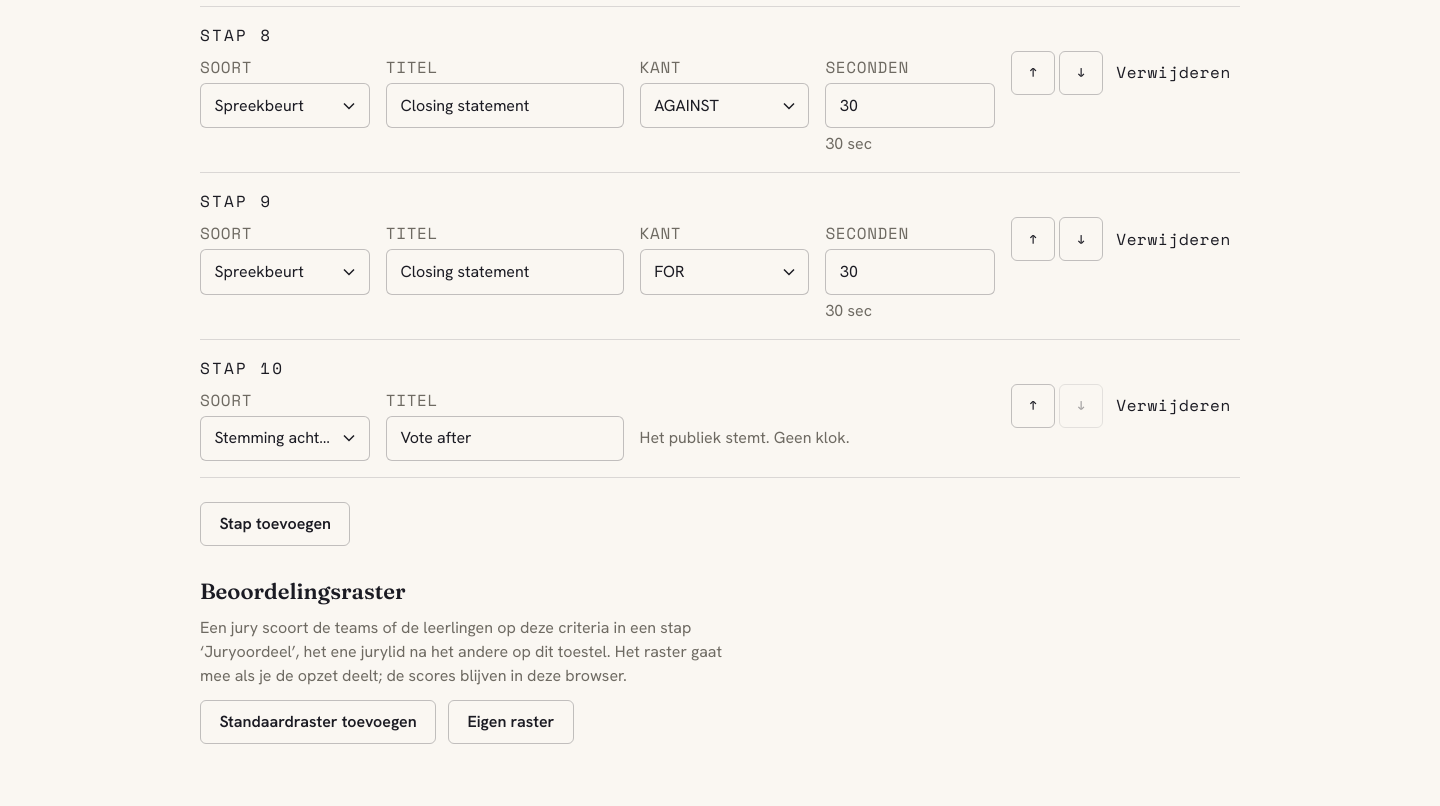
the format › starts over from a preset in the current language, after asking, and keeps the topics
(page scrolled)
Click the button with aria-label "Stap 10 verwijderen" at (1174, 406), box [1107,384,1240,428]
(page scrolled)
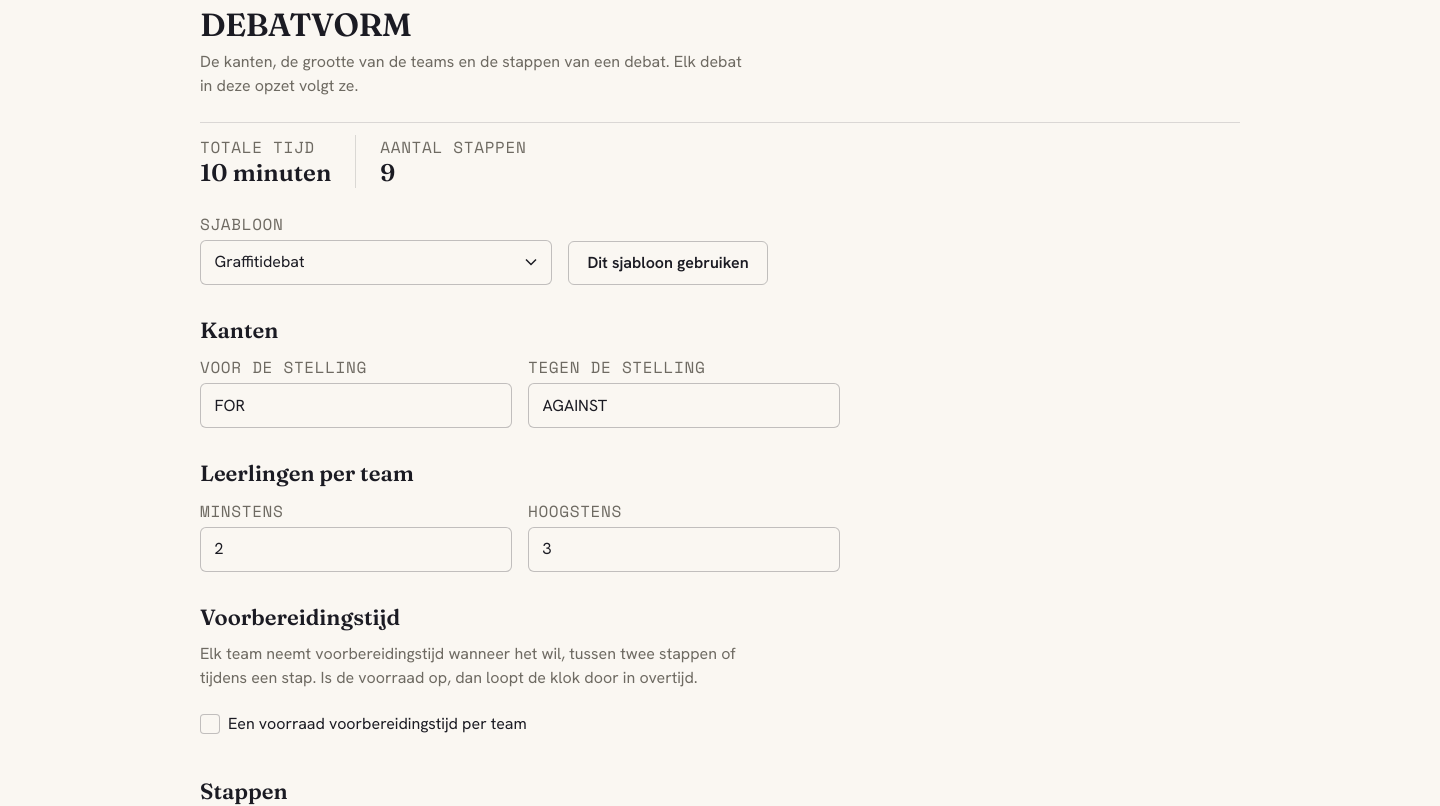
A half-typed side label gives way to the preset's.
Clear the field labelled "Voor de stelling" at (356, 406), box [200,383,512,428]
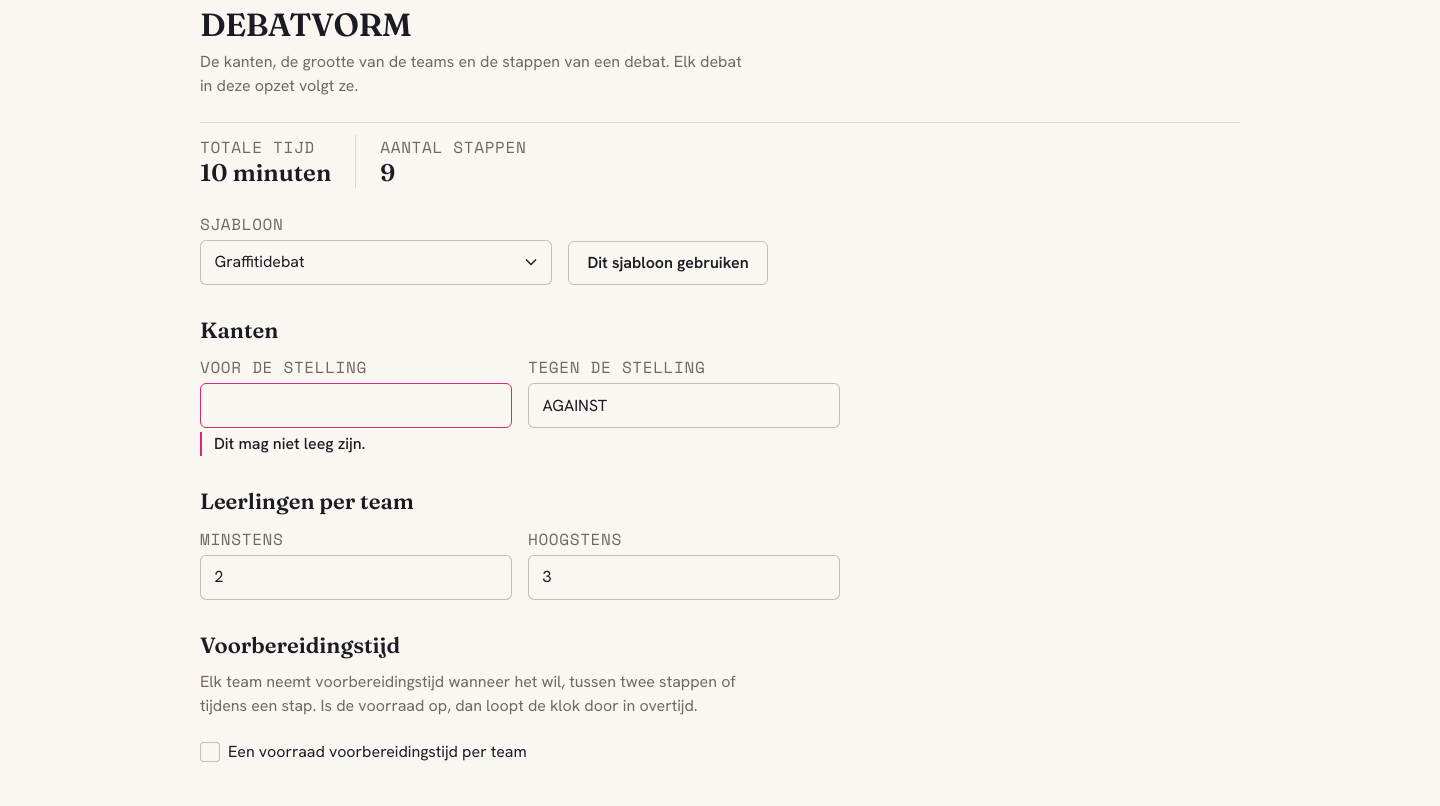
Expected: the field labelled "Voor de stelling" is marked as invalid, [200,383,512,428]
Click the button "Dit sjabloon gebruiken" at (668, 263), box [568,241,768,285]
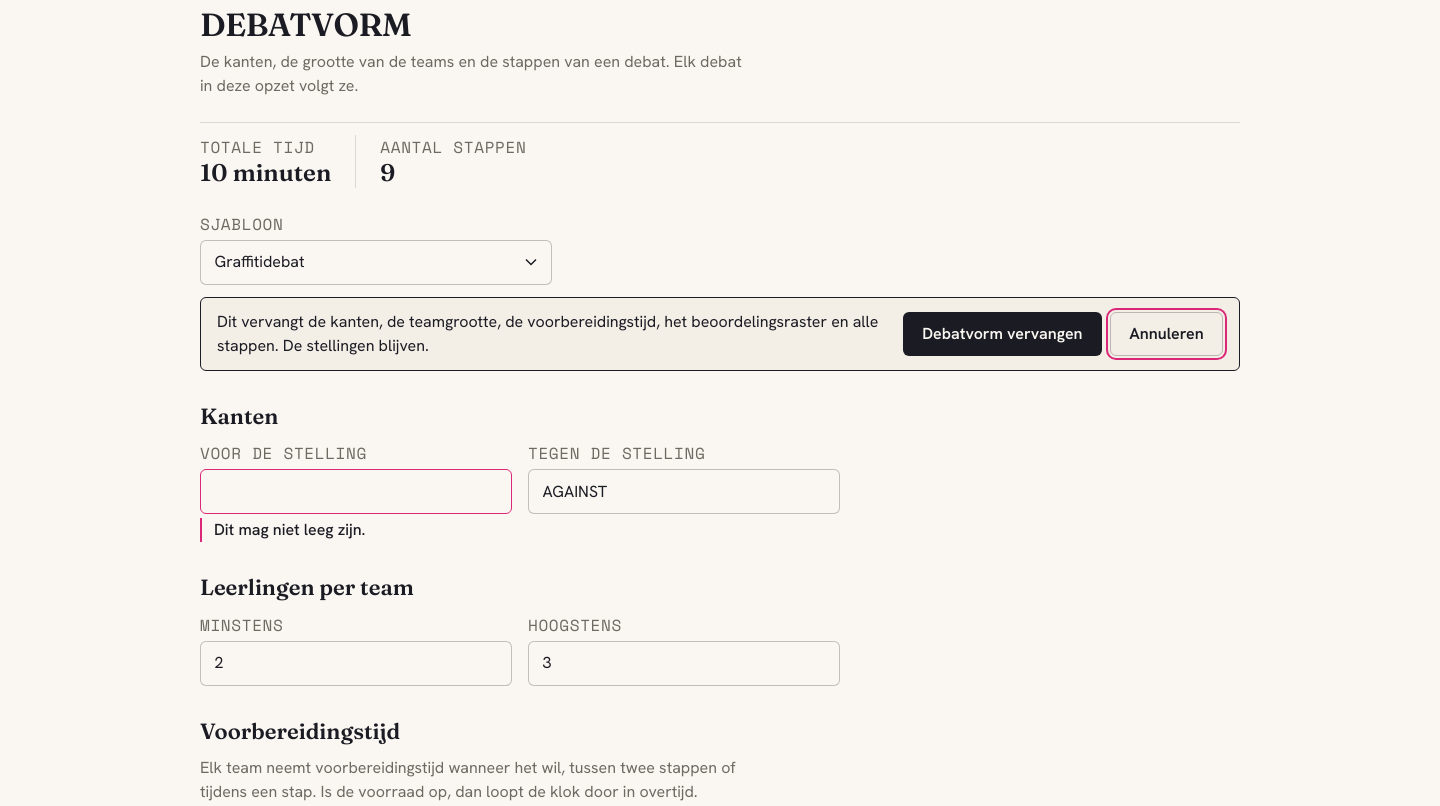
Expected: the element named "Dit sjabloon gebruiken" shows "Dit vervangt de kanten, de teamgrootte, de voorbereidingstijd, het beoordelingsraster en alle stappen.", [217,311,878,356]
Click the button "Debatvorm vervangen" at (1002, 334), box [903,312,1102,356]
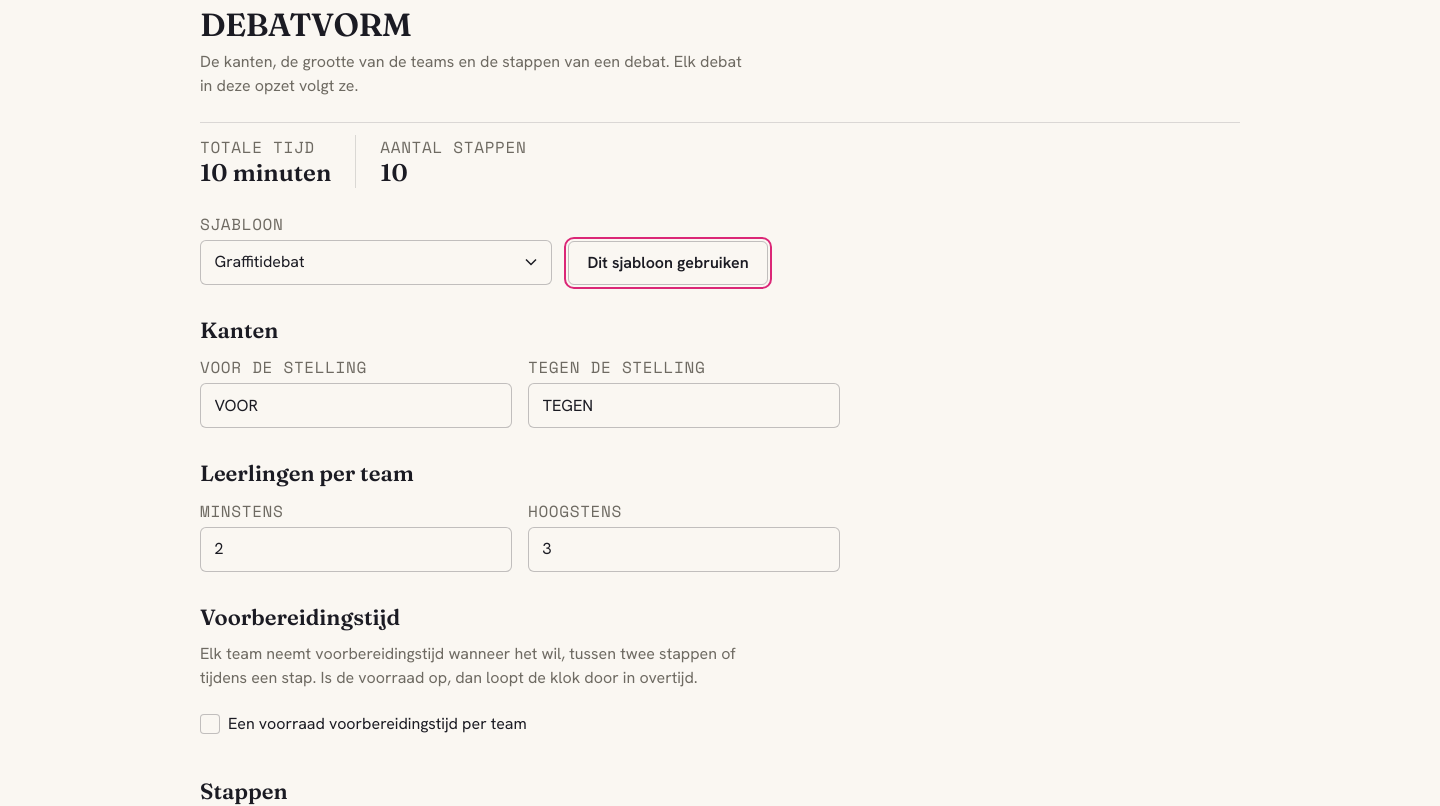
Expected: the field labelled "Voor de stelling" holds "VOOR", [200,383,512,428]
